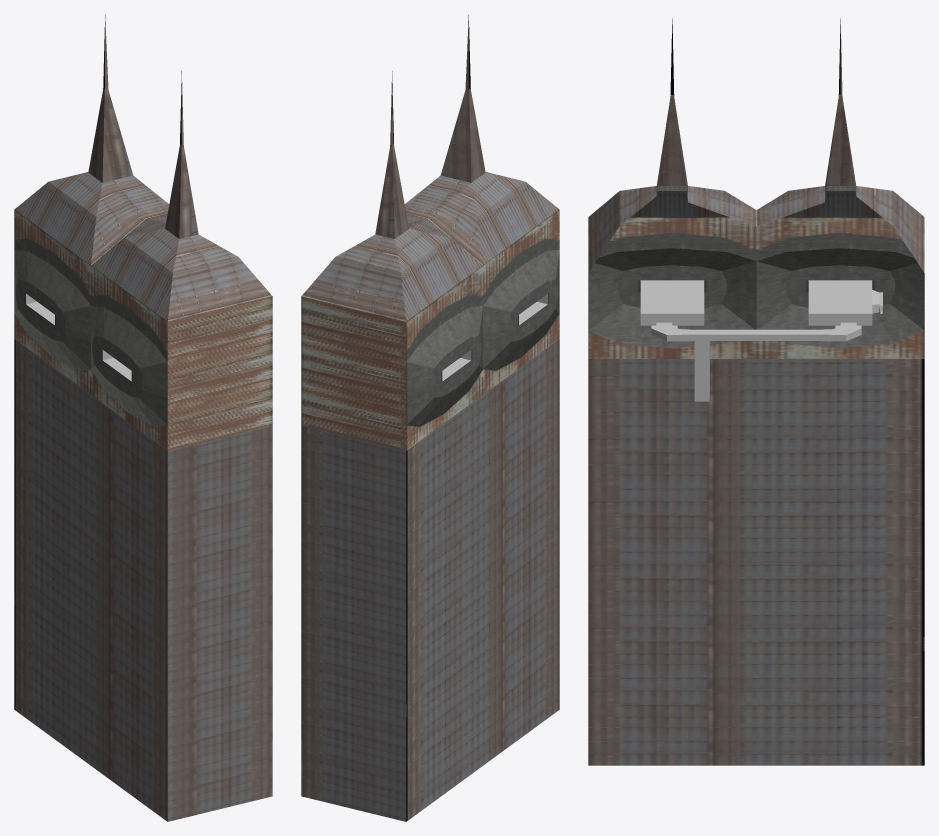
File: hangar2.fbx
3 views of the same model, side by side, from view 1: azimuth 30°, elevation 25°; view 2: azimuth 150°, elevation 25°; view 3: azimuth 270°, elevation 25° (orthographic). The views are drawn at different scales.
Parts seen in each view (by area): view 1: Cube; view 2: Cube; view 3: Cube.
Boxes of the visible parts, x1,y1,x2,y2 form: Cube: [14, 15, 272, 821]; Cube: [301, 15, 559, 821]; Cube: [588, 18, 924, 765].
Bounding box in the file's own units: 122 × 709 × 277.
